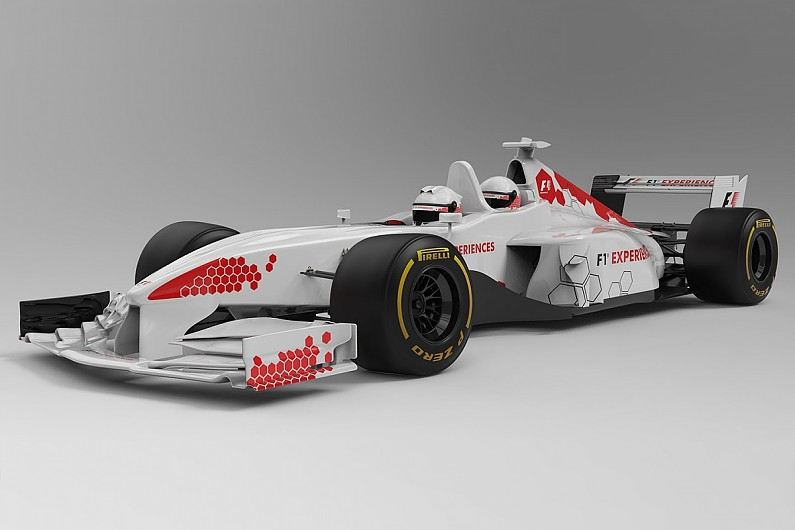f1_car: (11, 128, 791, 415)
